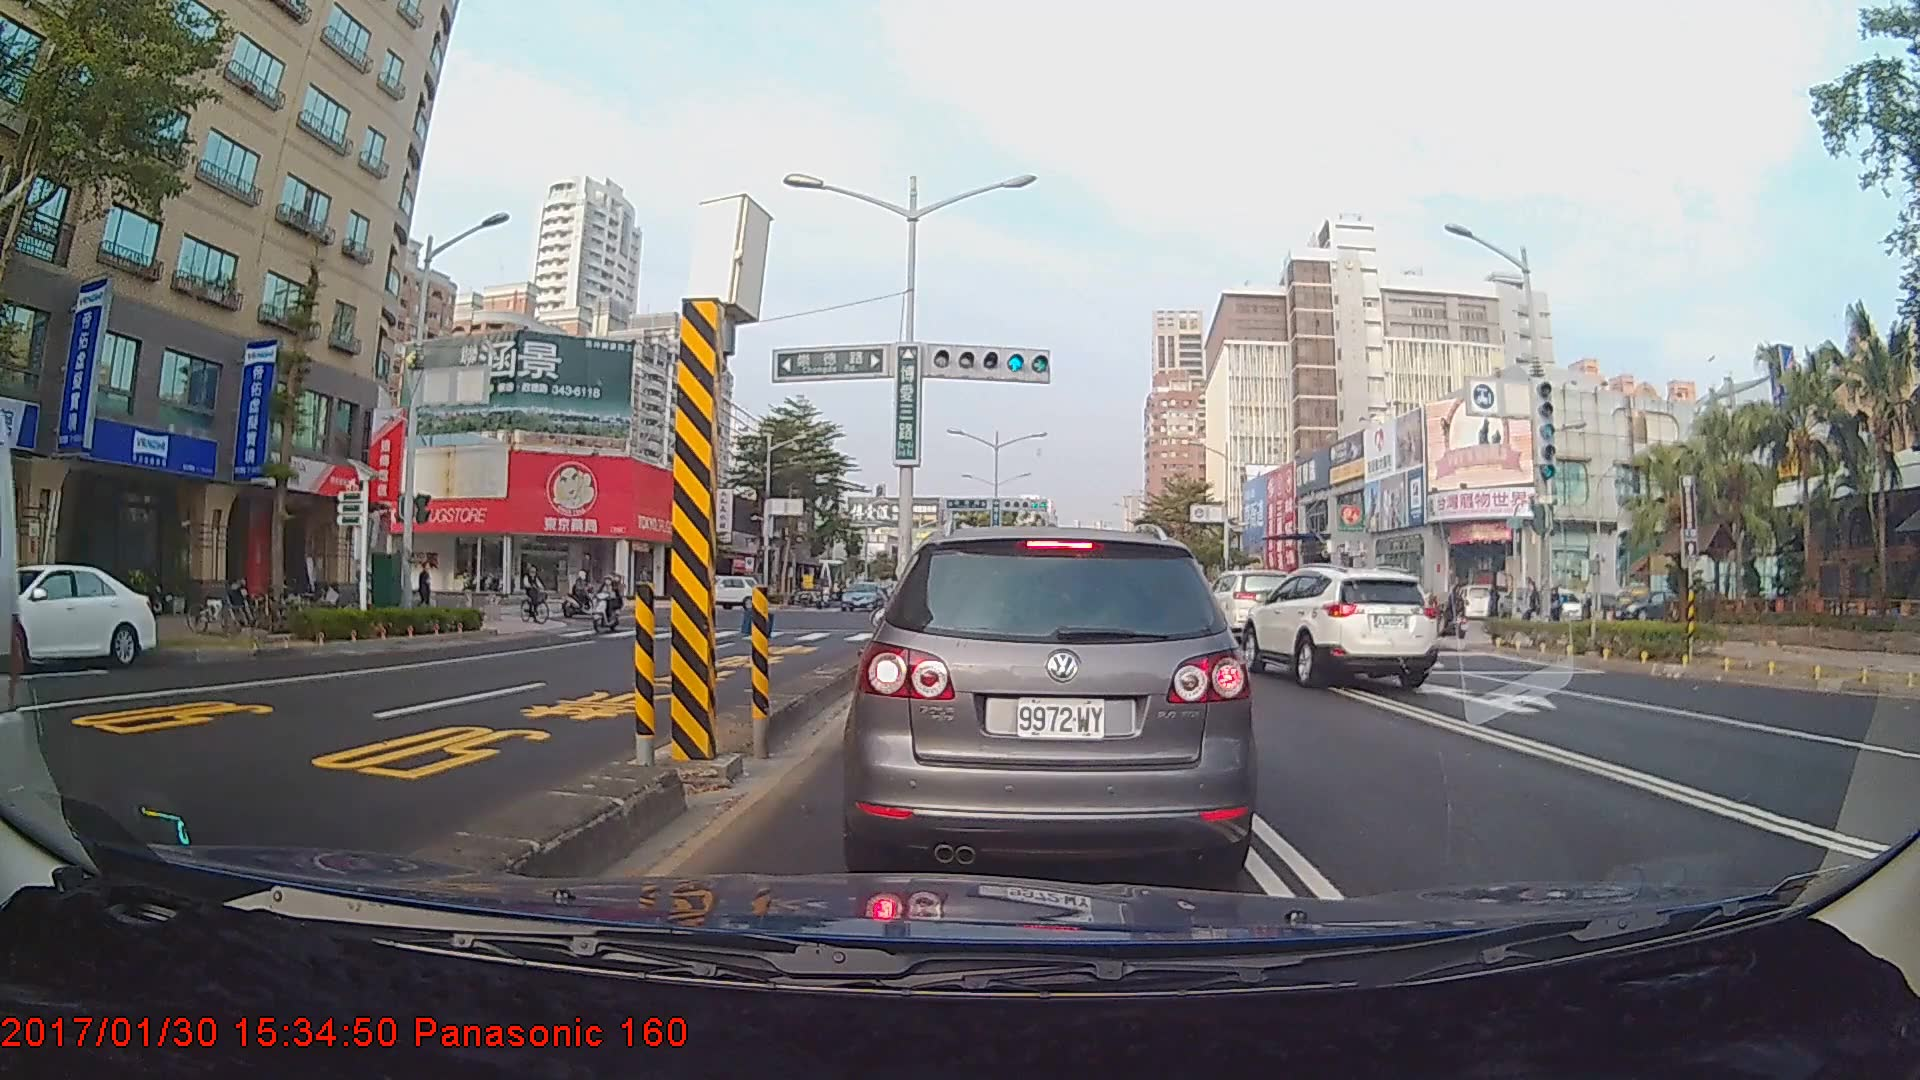pedestrian: (414, 558, 438, 621), (1485, 579, 1509, 637)
rider: (586, 570, 630, 640), (562, 568, 614, 625), (518, 559, 553, 629)
vehicle: (857, 522, 1246, 877), (1241, 562, 1439, 689), (0, 561, 157, 671), (1196, 567, 1292, 639), (841, 580, 884, 612)
